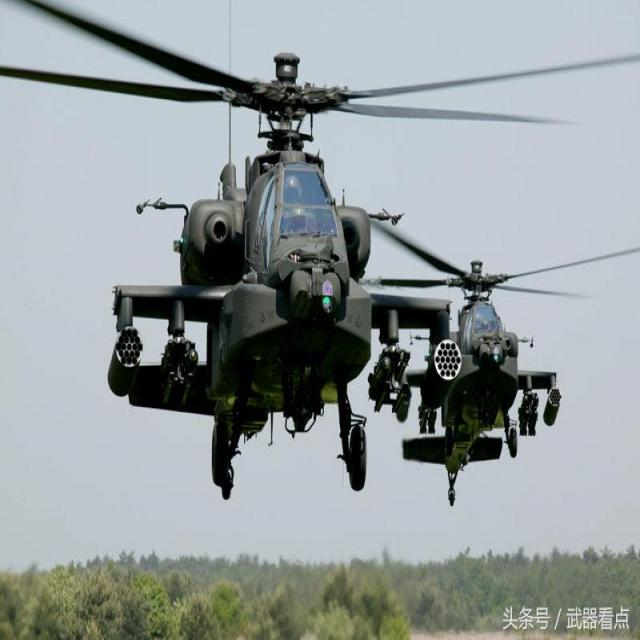MIL_HELO: (0, 0, 640, 502), (354, 231, 640, 505)
